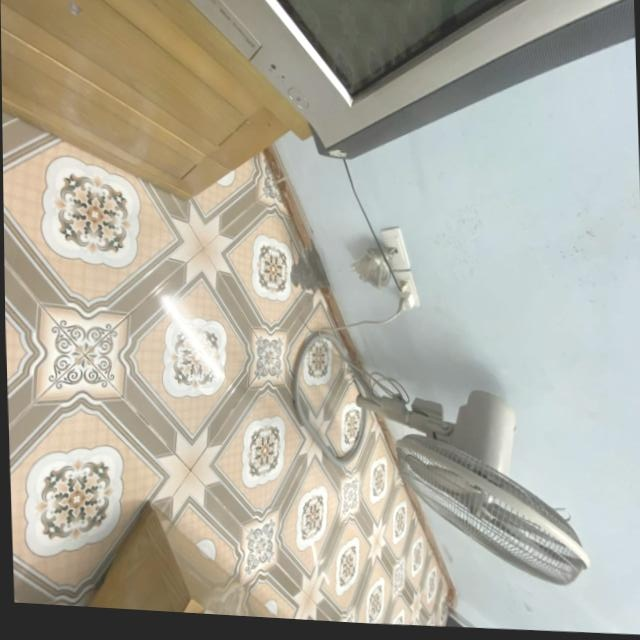outlet: (381, 225, 412, 270), (392, 269, 421, 310)
